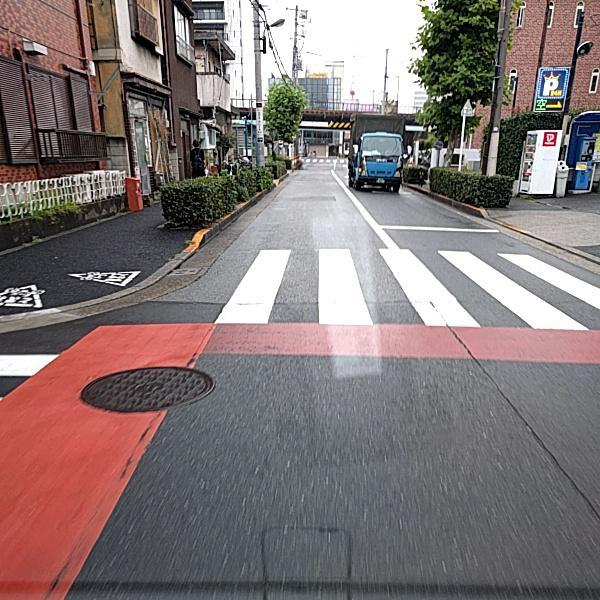D50: (72, 364, 217, 418)
